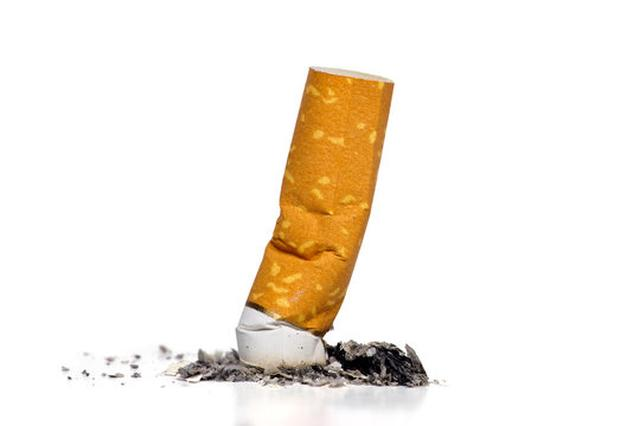Cigarette: (234, 64, 395, 370)
